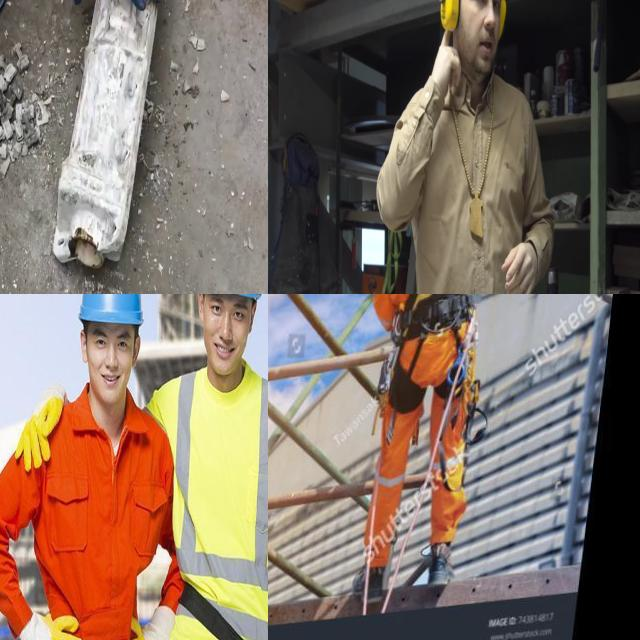Ear-protection: (440, 0, 509, 79)
Harness: (394, 294, 474, 342)
No_Ear-Protection: (130, 333, 144, 371), (248, 297, 260, 336), (78, 327, 90, 363), (195, 294, 206, 322)
No_Glasses: (208, 294, 248, 335), (89, 327, 133, 358), (466, 0, 502, 20)
face_nomask: (196, 294, 253, 381), (84, 328, 140, 407)
hand_glove: (12, 385, 72, 480), (19, 595, 86, 640), (129, 595, 178, 640)
head_helmet: (79, 294, 146, 325)
person: (0, 294, 170, 640), (156, 294, 268, 640)
vest: (155, 376, 268, 640)
